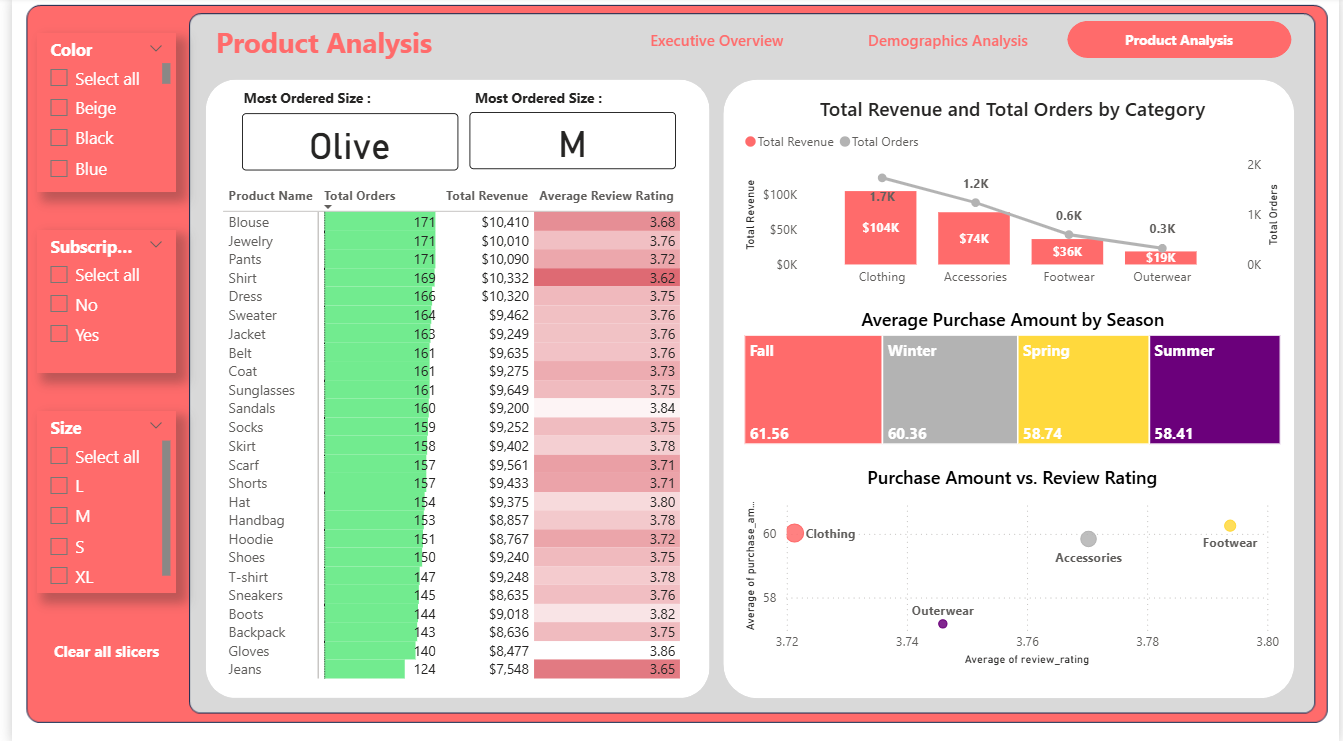

The page's visual inventory and layout, read from the dashboard file:
{"tool":"powerbi","page":{"name":"Product  Analysis","canvas":[1280,720],"ordinal":2},"visuals":[{"type":"shape","box":[187,79.6,486.2,597.2],"z":0},{"type":"shape","box":[686.8,79.4,551.1,597.3],"z":1000},{"type":"lineClusteredColumnComboChart","title":"Total Revenue and Total Orders by Category","fields":{"Category":["mydatabase mytable.category"],"Y":["Measure table.Total Revenue"],"Y2":["Measure table.Total Orders"]},"box":[702.1,95.3,527.2,193],"z":2000},{"type":"pivotTable","fields":{"Rows":["mydatabase mytable.item_purchased"],"Values":["Measure table.Total Orders","Measure table.Total Revenue","Measure table.Average Review Rating"]},"box":[199.1,178.9,463.1,487.7],"z":3000},{"type":"pageNavigator","box":[571.9,22.9,666,36.2],"z":4000},{"type":"slicer","fields":{"Values":["mydatabase mytable.color"]},"box":[24.7,34.6,134.2,152.9],"z":5000},{"type":"slicer","fields":{"Values":["mydatabase mytable.subscription_status"]},"box":[24.7,224.1,134.2,138.5],"z":6000},{"type":"slicer","fields":{"Values":["mydatabase mytable.size"]},"box":[24.7,399.2,134.2,176],"z":7000},{"type":"treemap","title":"Average Purchase Amount by Season","fields":{"Group":["mydatabase mytable.season"],"Values":["Measure table.Average Purchase Amount"]},"box":[702.1,299.2,527.2,137.5],"z":8000},{"type":"card","fields":{"Values":["Measure table.Most_Ordered_Size"]},"box":[441.5,111.1,199.1,54.8],"z":9000},{"type":"card","fields":{"Values":["Measure table.Most_Ordered_Color"]},"box":[222,112.2,208.7,55.5],"z":10000},{"type":"scatterChart","title":"Purchase Amount vs. Review Rating","fields":{"X":["Avg(mydatabase mytable.review_rating)"],"Y":["Avg(mydatabase mytable.purchase_amount)"],"Series":["mydatabase mytable.category"],"Size":["Sum(mydatabase mytable.purchase_amount)1"]},"box":[702.6,451.6,526.6,199.1],"z":11000},{"type":"textbox","box":[441.5,83.7,171.7,28.9],"z":12000},{"type":"textbox","box":[218.4,83.2,171.3,29],"z":13000},{"type":"actionButton","box":[35.5,611.7,112.5,39],"z":14000},{"type":"textbox","box":[191.8,20.5,342.6,62.7],"z":15000}]}

Visuals, with their boxes in screenshot pixels (x1, y1, x2, y2), scaled from the page's 1280x720 canvas onto the 1343x741 screenshot:
shape: 196/82/706/697
shape: 721/82/1299/696
"Total Revenue and Total Orders by Category" lineClusteredColumnComboChart: 737/98/1290/297
pivotTable - mydatabase mytable.item_purchased x Measure table.Total Orders: 209/184/695/686
pageNavigator: 600/24/1299/61
slicer - mydatabase mytable.color: 26/36/167/193
slicer - mydatabase mytable.subscription_status: 26/231/167/373
slicer - mydatabase mytable.size: 26/411/167/592
"Average Purchase Amount by Season" treemap: 737/308/1290/449
card - Measure table.Most_Ordered_Size: 463/114/672/171
card - Measure table.Most_Ordered_Color: 233/115/452/173
"Purchase Amount vs. Review Rating" scatterChart: 737/465/1290/670
textbox: 463/86/643/116
textbox: 229/86/409/115
actionButton: 37/630/155/670
textbox: 201/21/561/86
